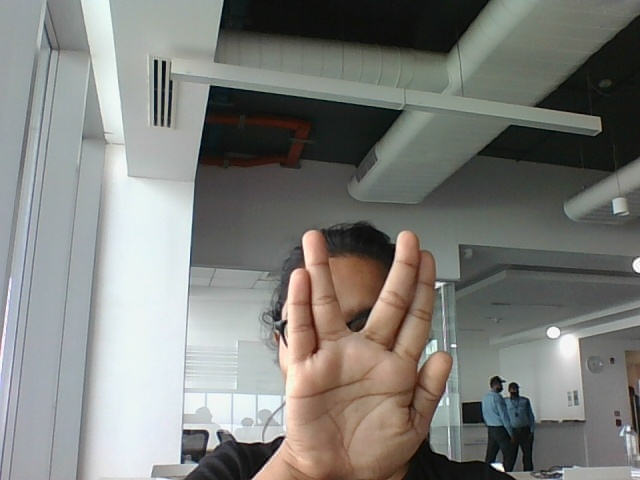livelong: (281, 226, 454, 480)
